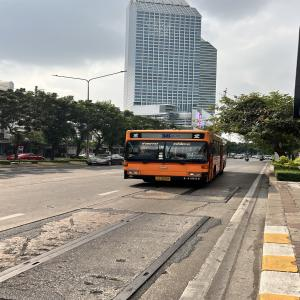BMTA-bus: (123, 129, 228, 184)
Bus Line Number: (158, 132, 183, 138)
Bus Side Number: (180, 177, 202, 180)
Destination Sign: (186, 153, 204, 160)
